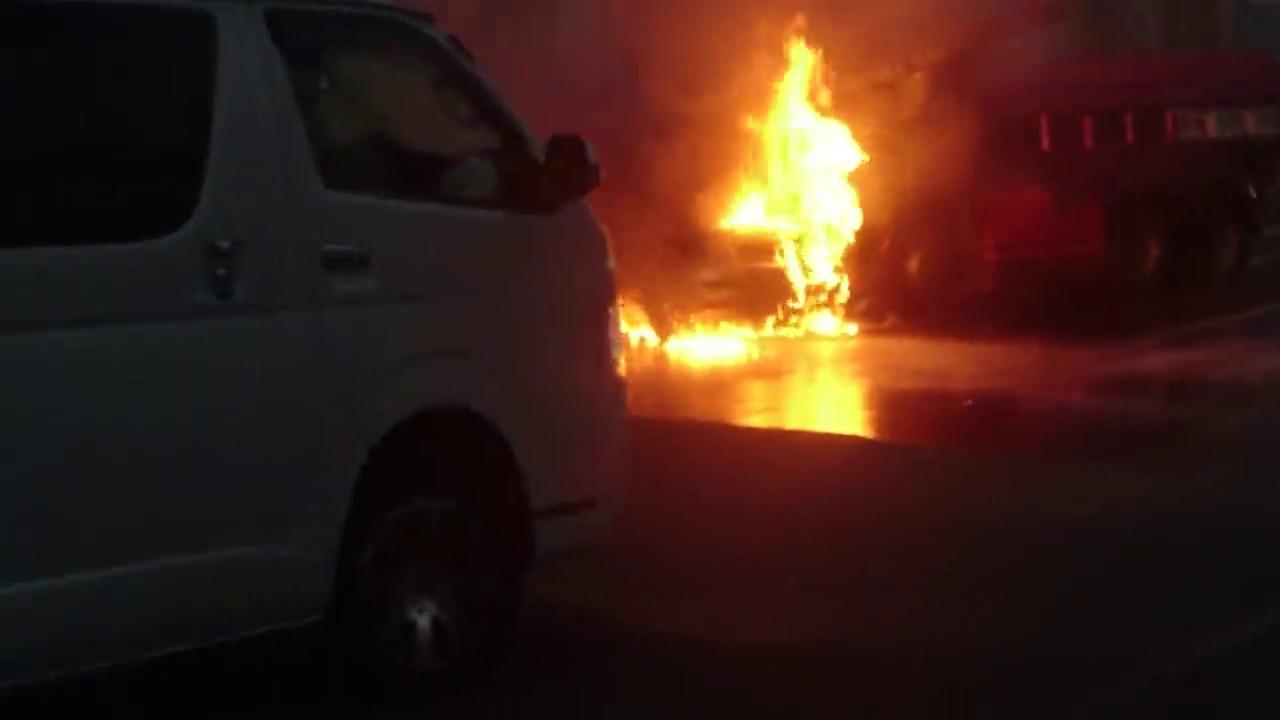fire: (715, 20, 874, 282), (608, 296, 880, 371)
